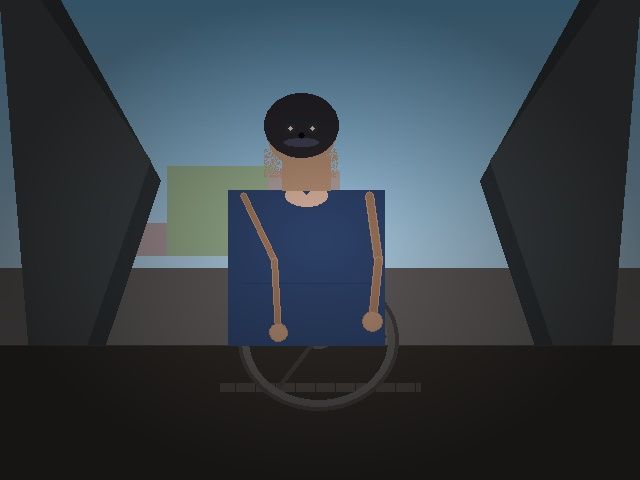normal_driving: (128, 180, 318, 340)
